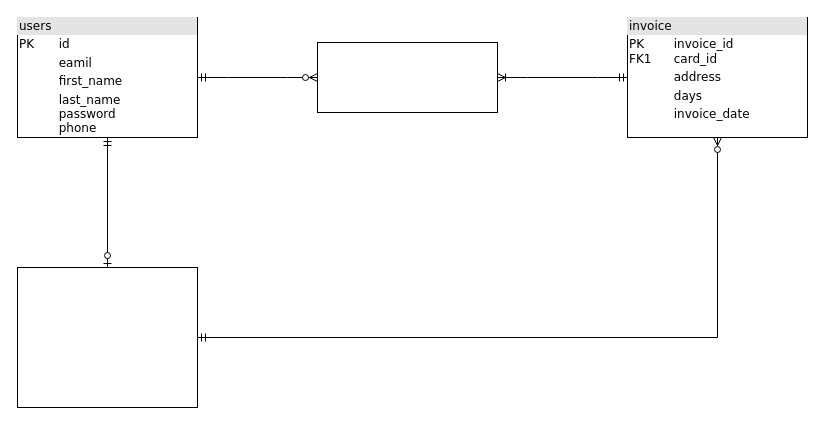
Image size: 825x425. Some labels were removed from this diagram. The box of each missing label's shape, as (x1, y1, x2, y2) in pixels:
card PK card_id FK1 user_id expiry_date price status type: (16, 266, 198, 408)
invoice_user_map FK1 FK2 user_id invoice_id: (316, 42, 498, 112)
